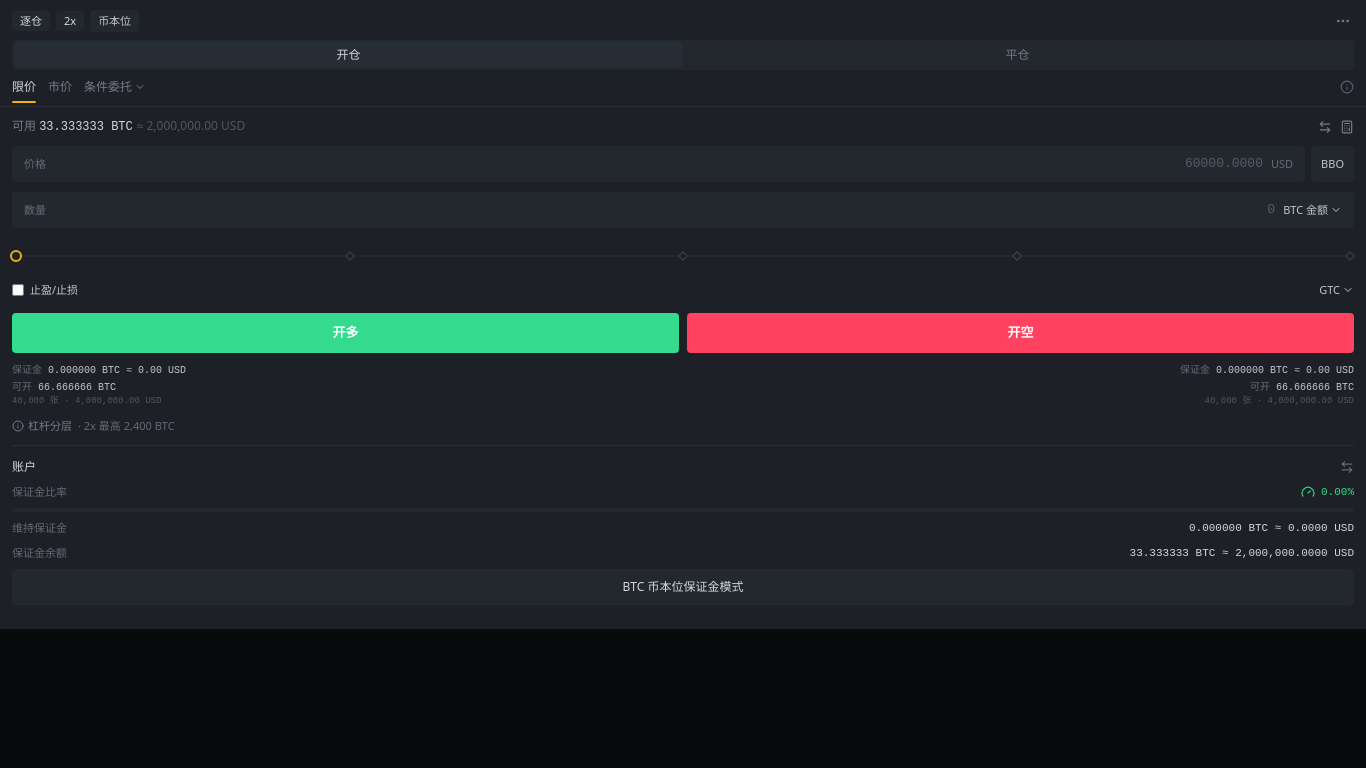
Test: 市价单：常驻小字，超过换成警告并置灰 › 币本位（BTCUSD_PERP）写张数：「单笔市价上限 60,000 张」，60,001 张标红
Click the button "市价".
click(60, 90)  # box x1=48 y1=78 x2=72 y2=102
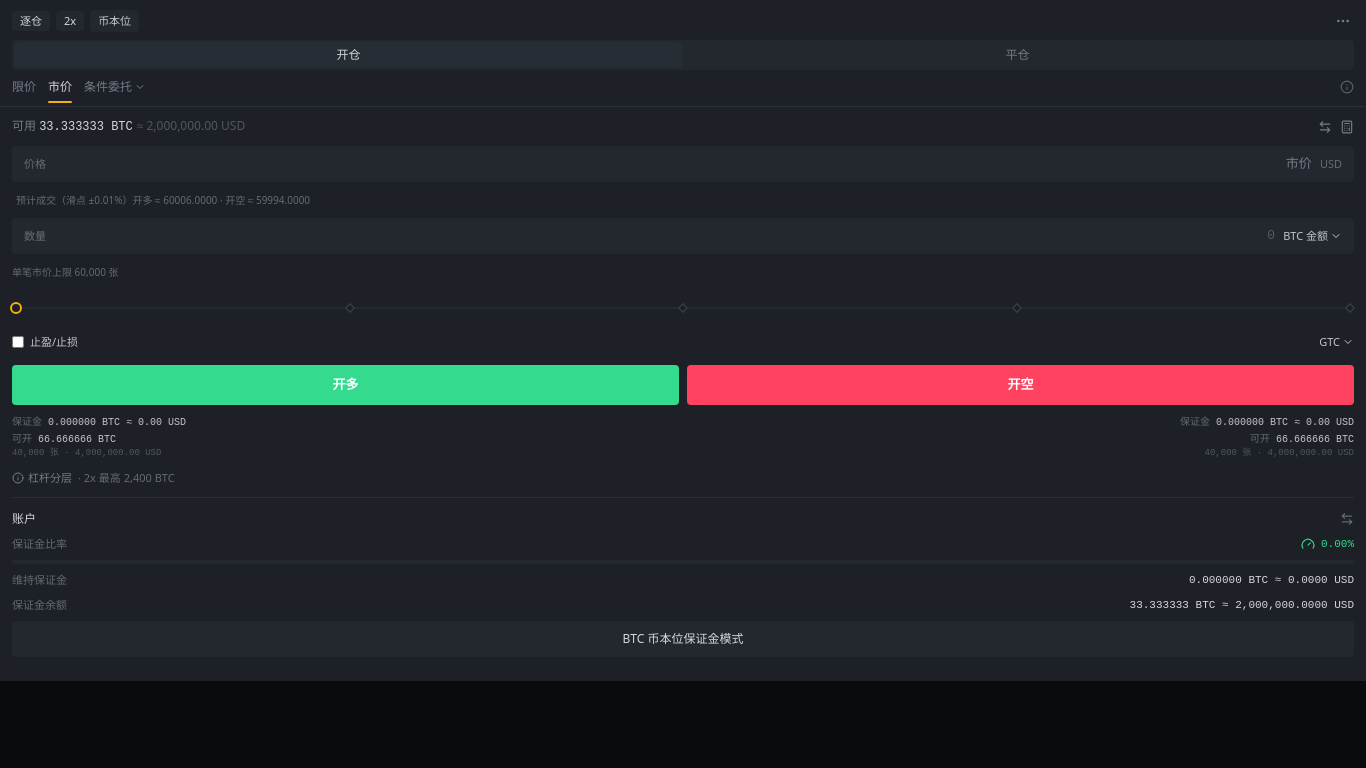
Click the button with test id "unit-preference-trigger".
click(1313, 236)  # box x1=1283 y1=228 x2=1342 y2=244
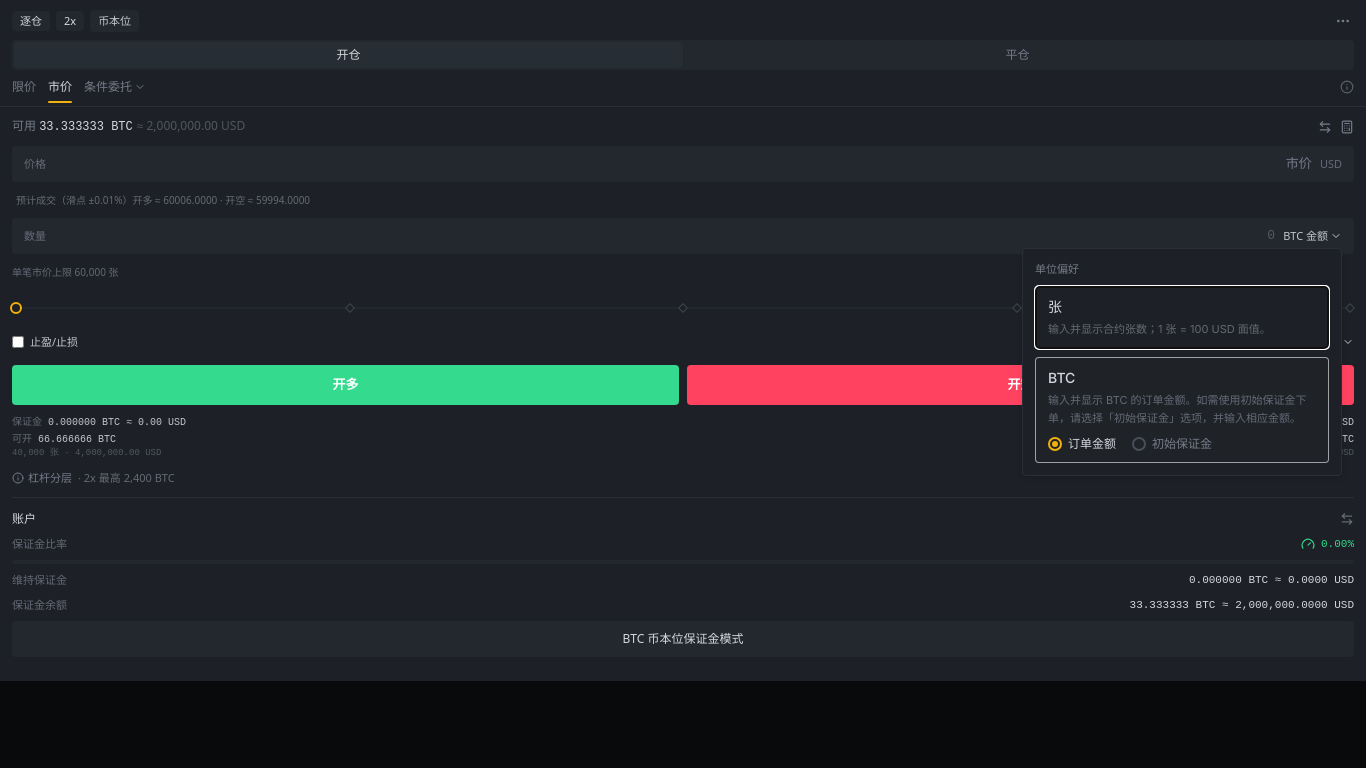
Click the button "张 输入并显示合约张数；1 张 = 100 USD 面值。".
click(1159, 328)  # box x1=1035 y1=286 x2=1329 y2=349
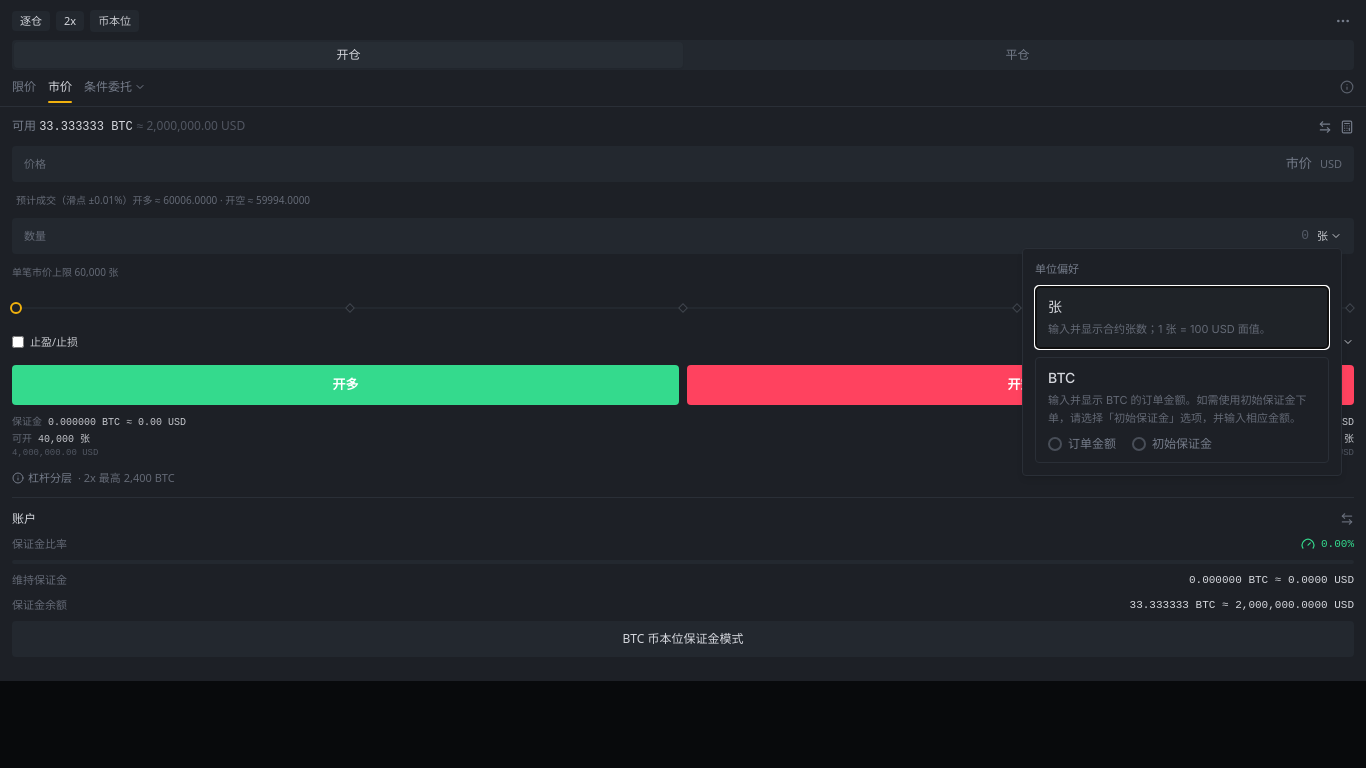
Result: the text with test id "lot-size-hint" reads "单笔市价上限 60,000 张" at x1=12 y1=265 x2=118 y2=279
Type "60001" into the field with test id "order-qty-input".
click(682, 236); type("60001")  # box x1=54 y1=226 x2=1309 y2=246
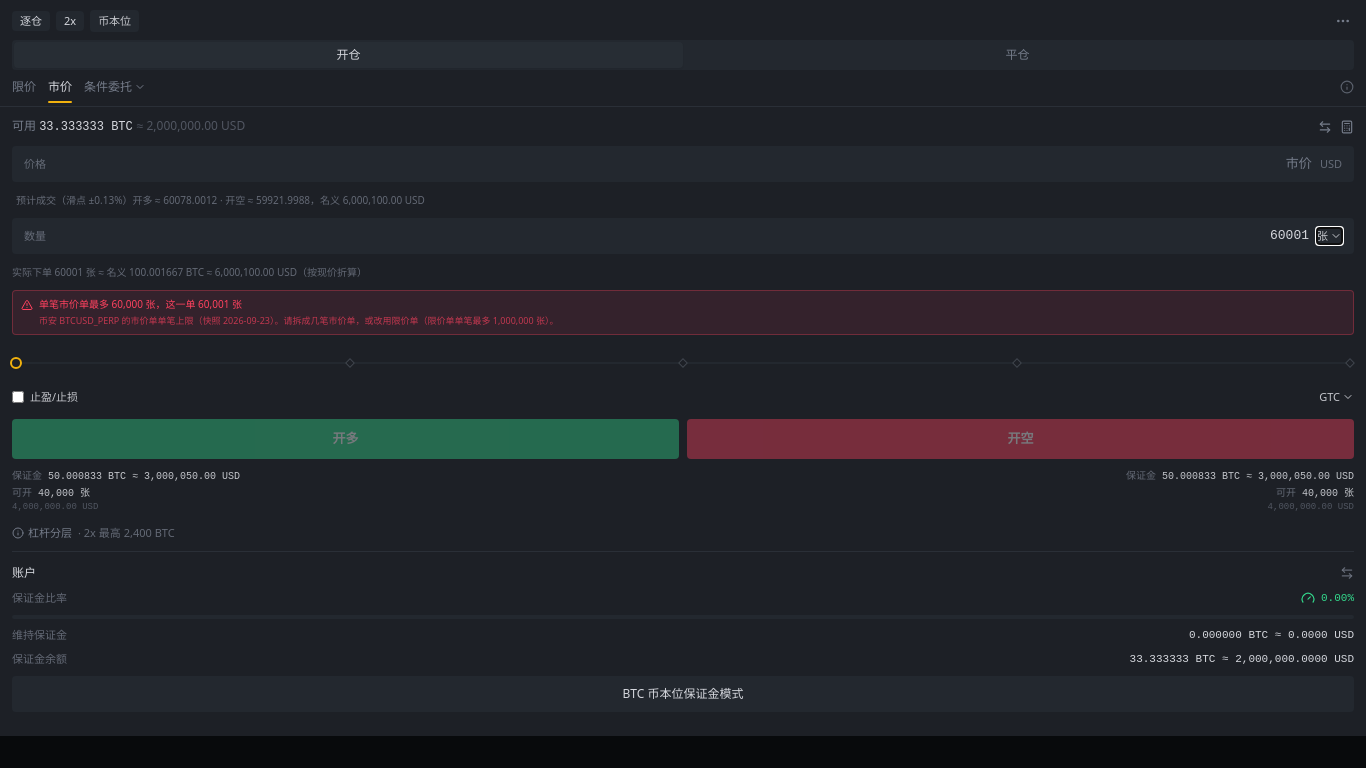
Result: the element with test id "lot-size-warning" shows "单笔市价单最多 60,000 张，这一单 60,001 张" at x1=39 y1=297 x2=242 y2=311
Result: the button "开多" is disabled at x1=12 y1=419 x2=679 y2=459
